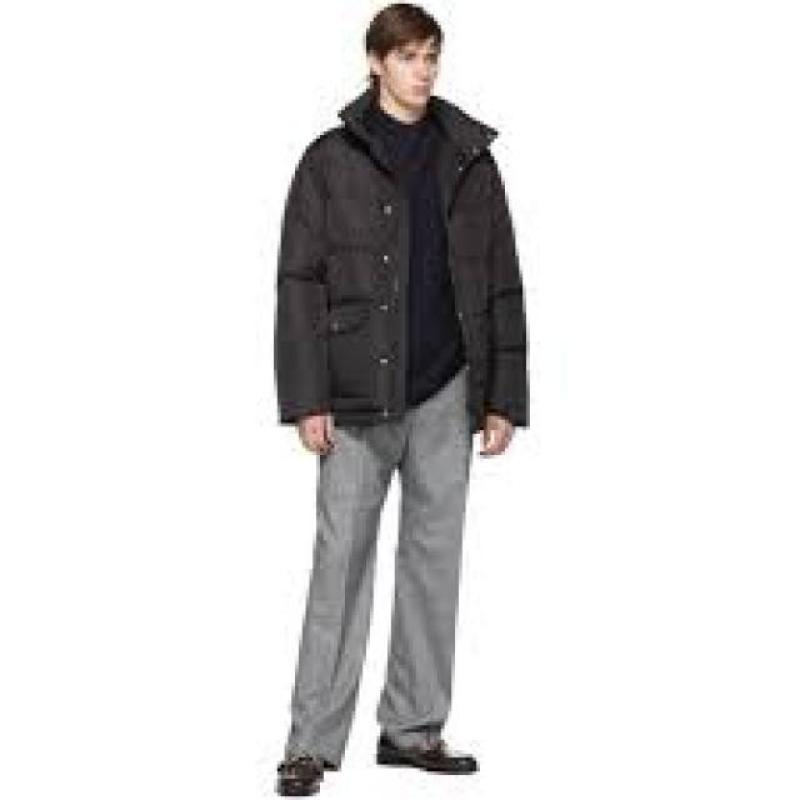coat: (268, 87, 544, 431)
trousers: (284, 359, 475, 752)
